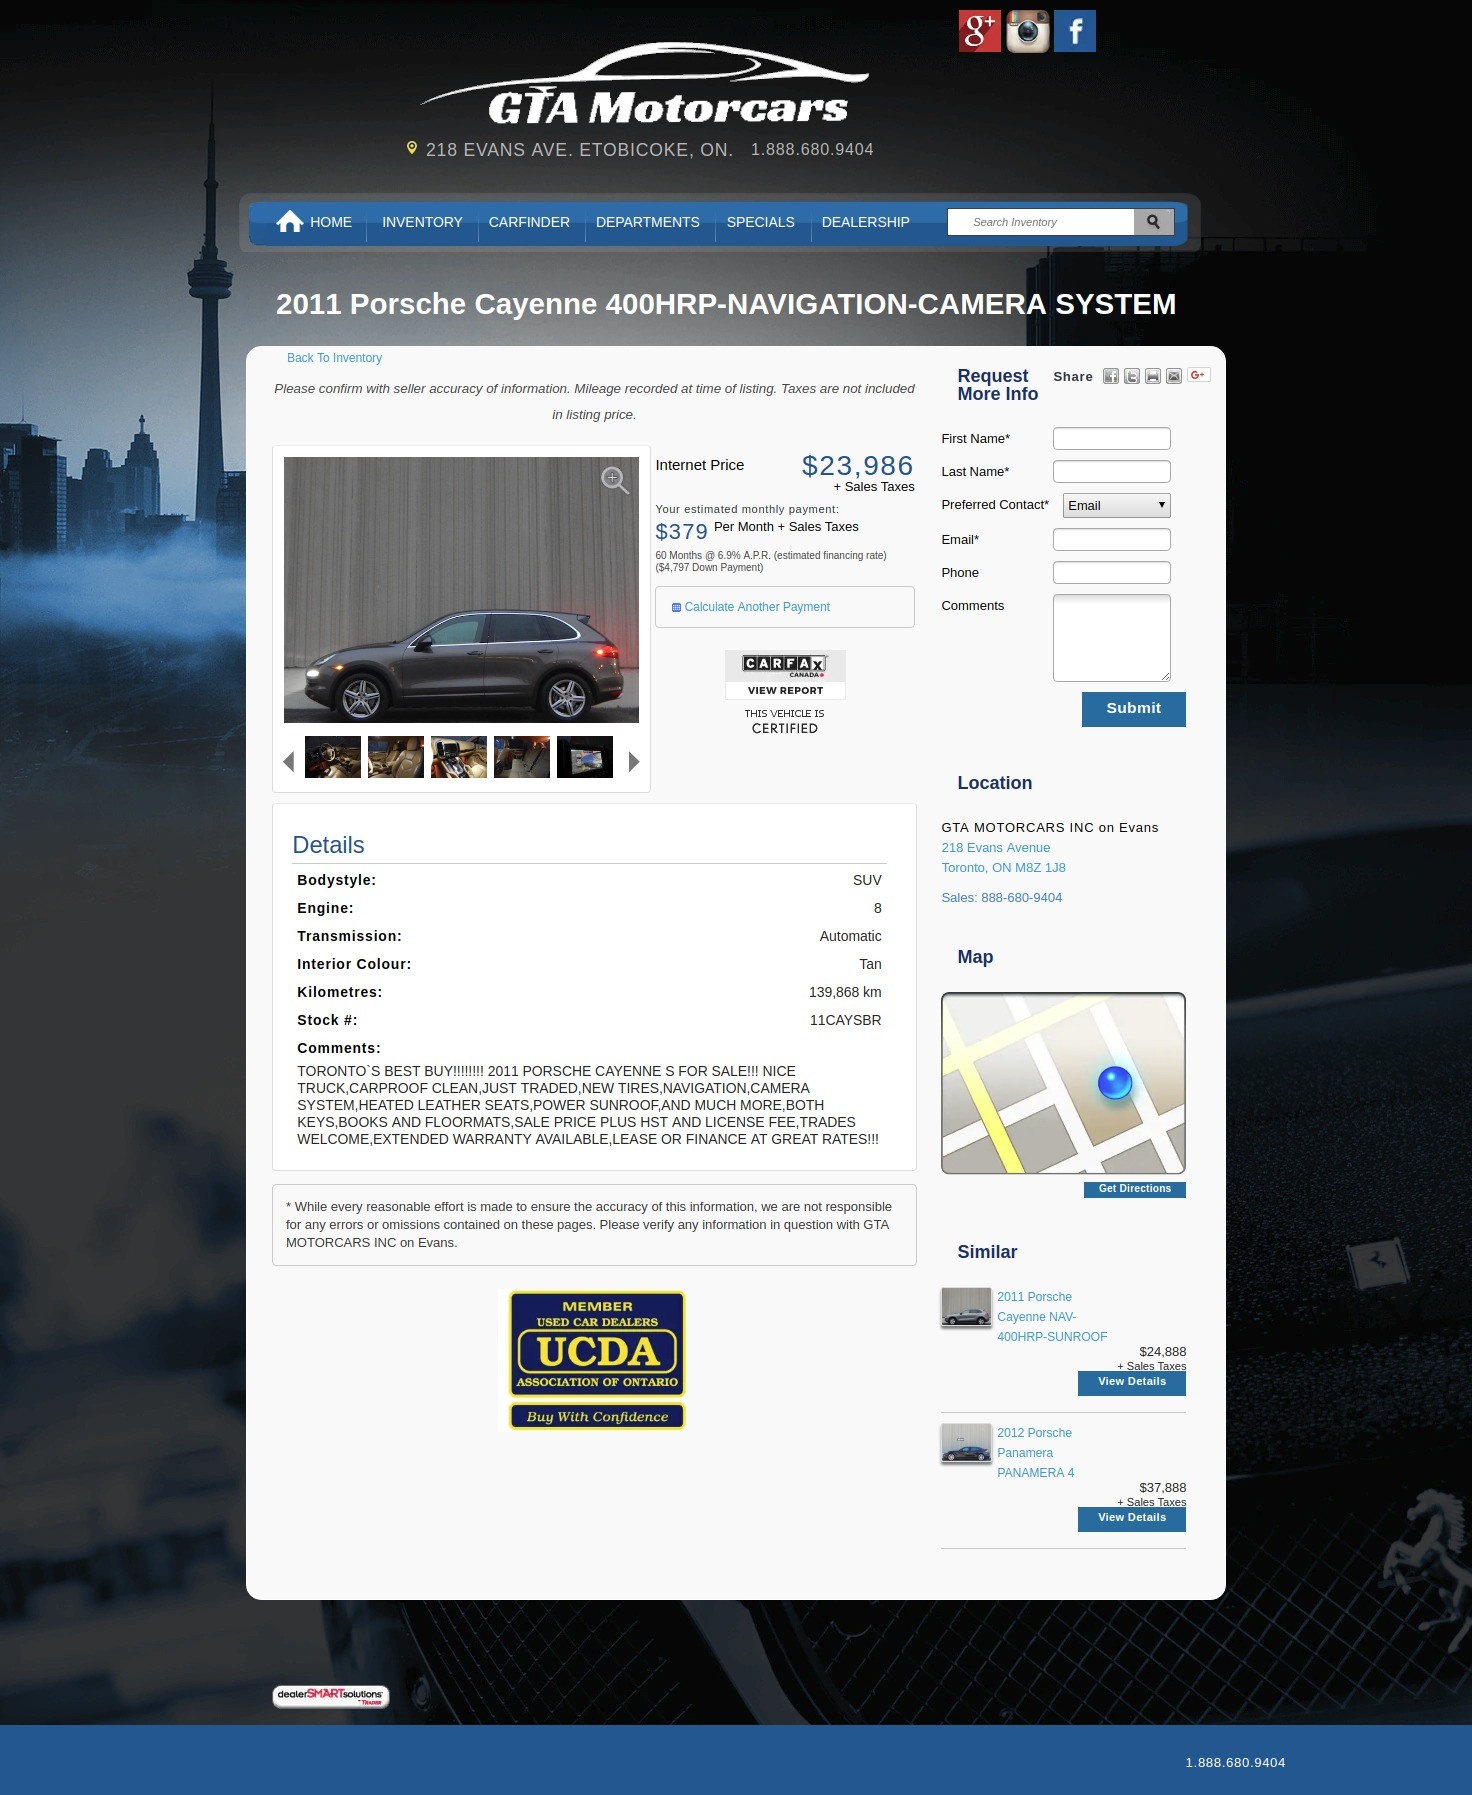car: (629, 751, 641, 774)
